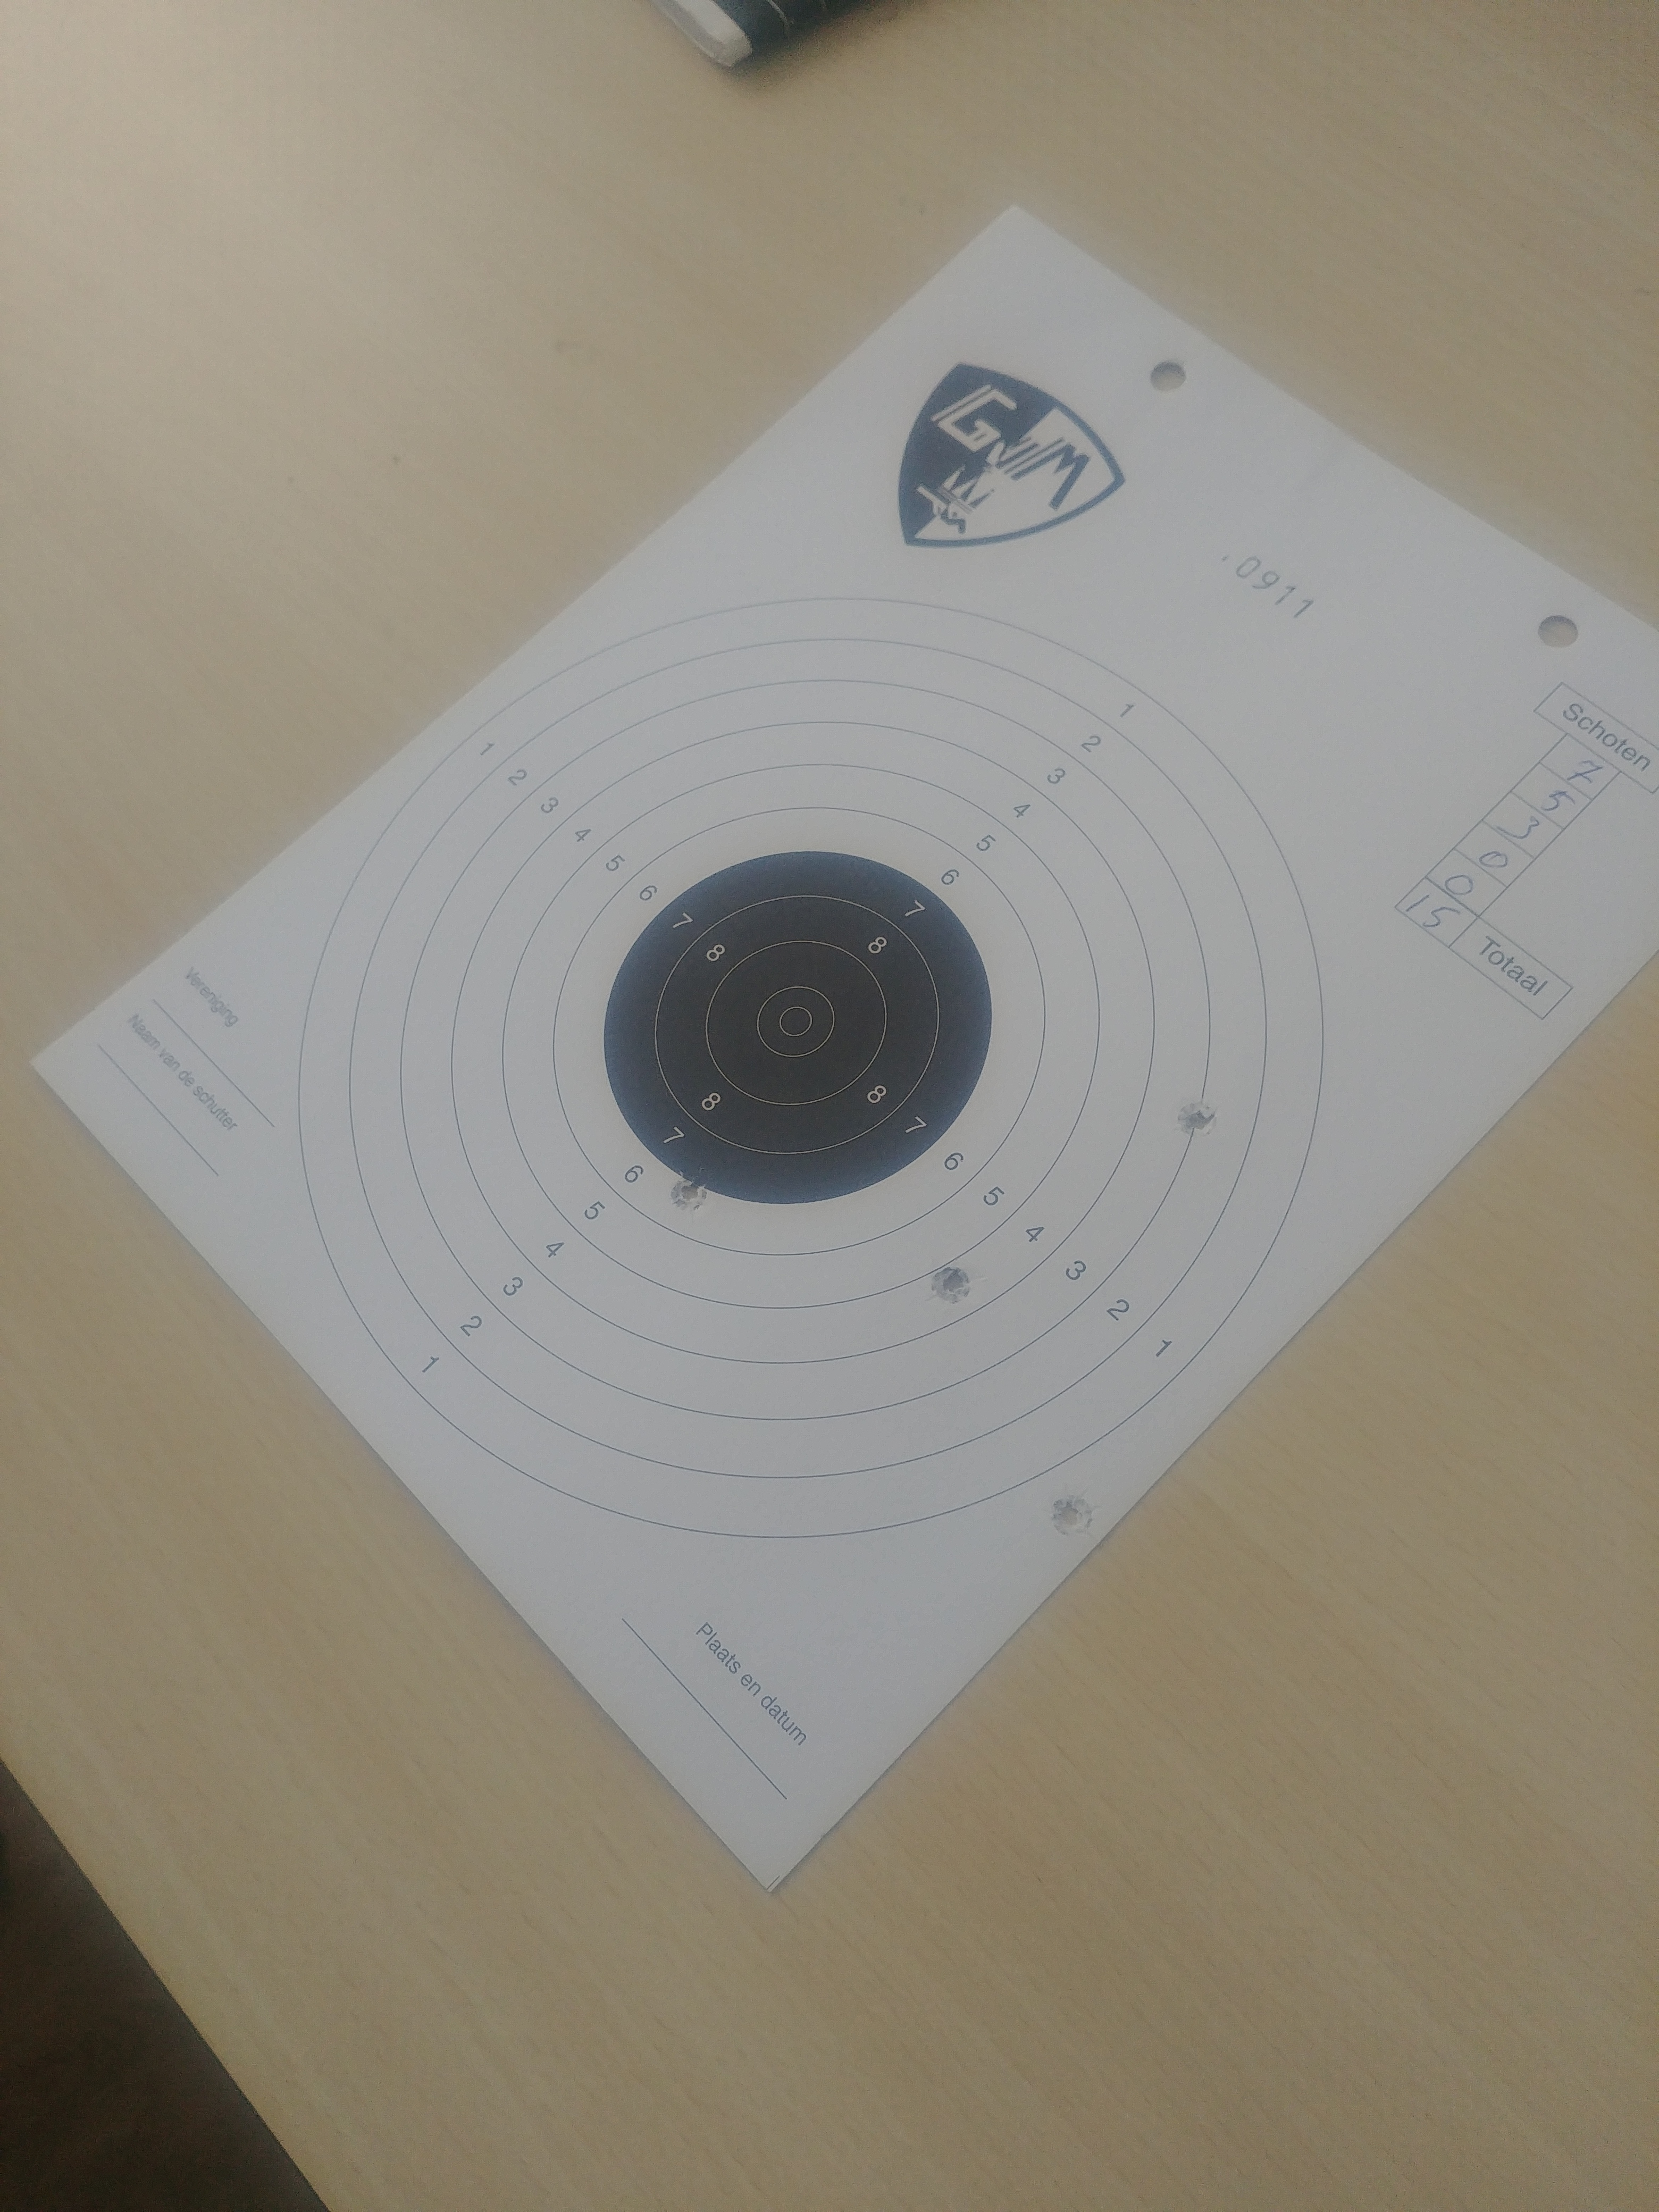center: (603, 850, 995, 1205)
out: (295, 594, 1330, 1540)
shot: (1046, 1493, 1098, 1538), (927, 1263, 976, 1305), (1173, 1097, 1222, 1137), (667, 1170, 709, 1216)
target: (755, 984, 835, 1059)
